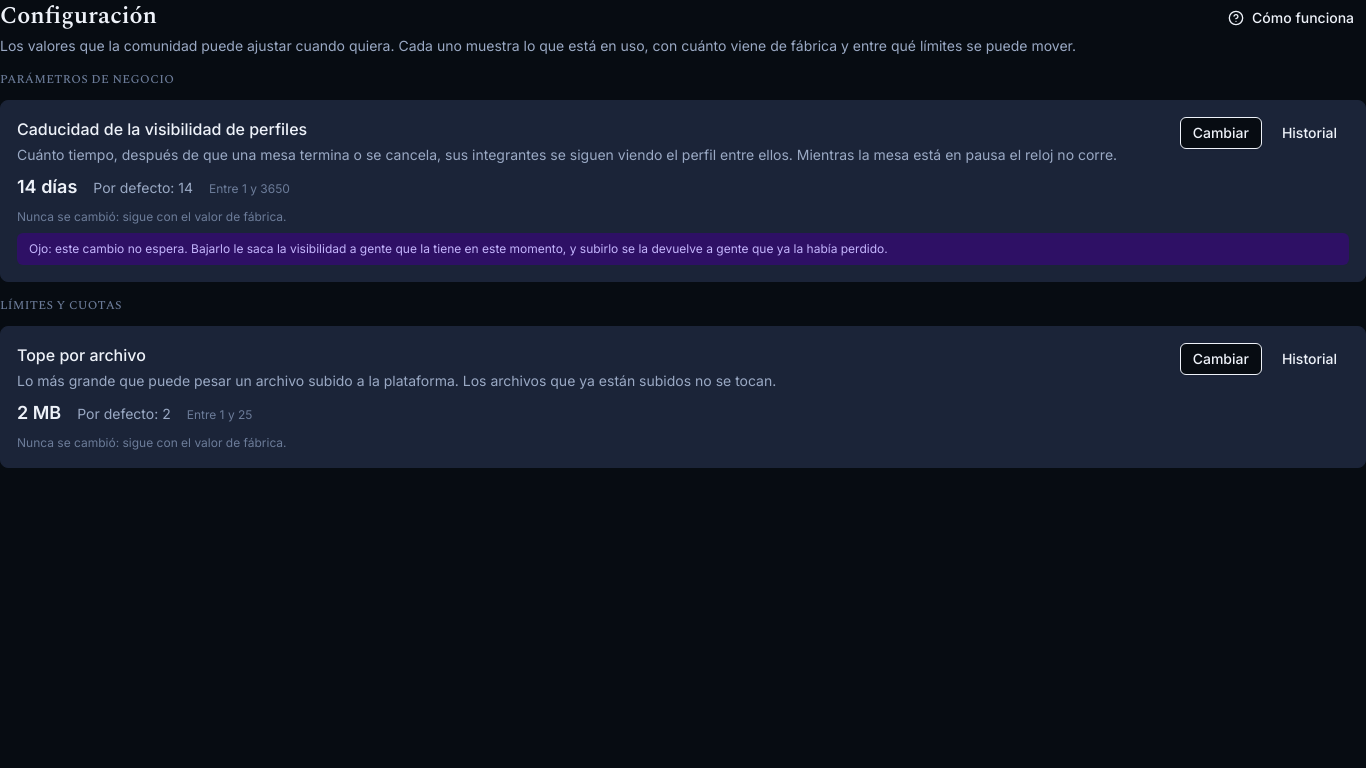
Test: AdminSettingsPage › opens the editor on the setting whose button was pressed
Click the button "Cambiar" in the row of "Tope por archivo" at [1221, 359], box top-left (1180, 343), bottom-right (1262, 375)
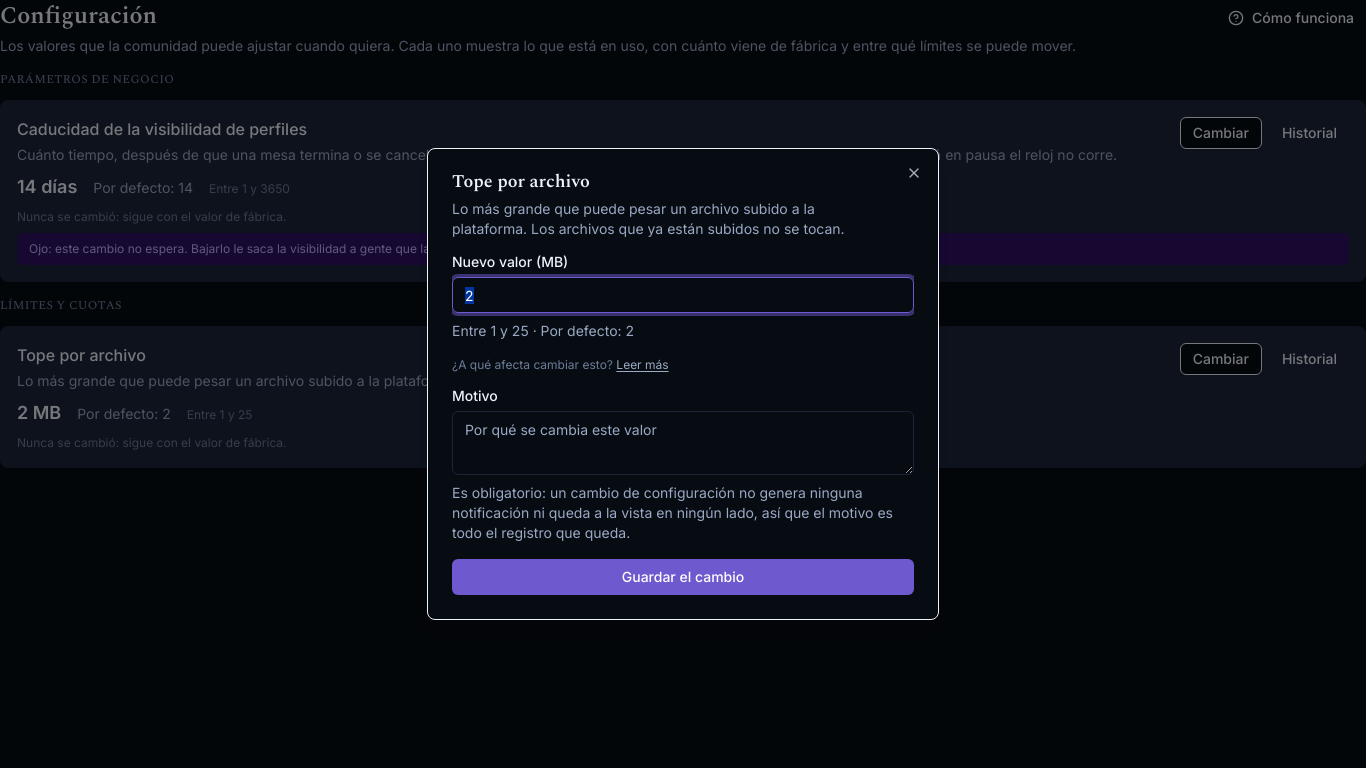
Result: the field labelled "Nuevo valor (MB)" holds "2" at top-left (452, 277), bottom-right (914, 313)
Result: the text "Entre 1 y 25 · Por defecto: 2" is shown at top-left (452, 322), bottom-right (634, 339)
